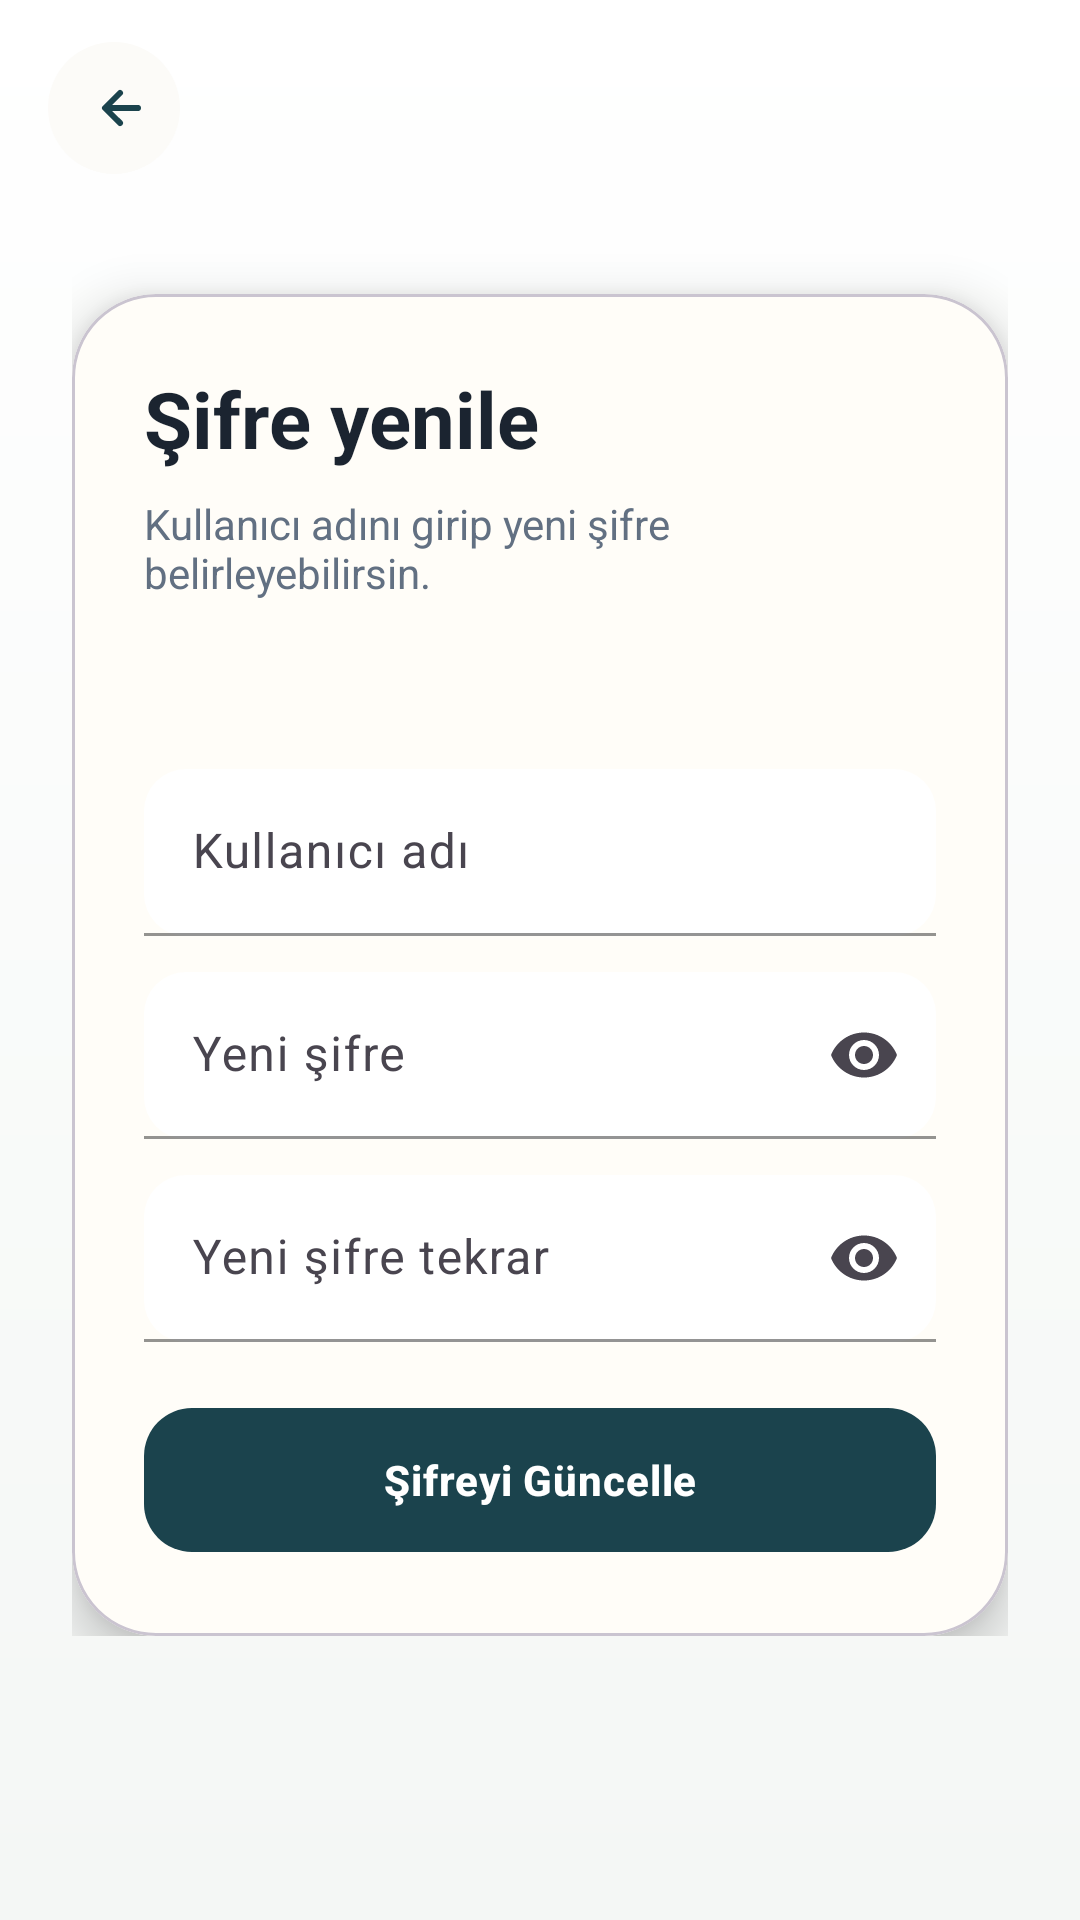

Where to tap for icons on this 1080w x 1920h app screen, as (x,y):
Geri: (121,108)
